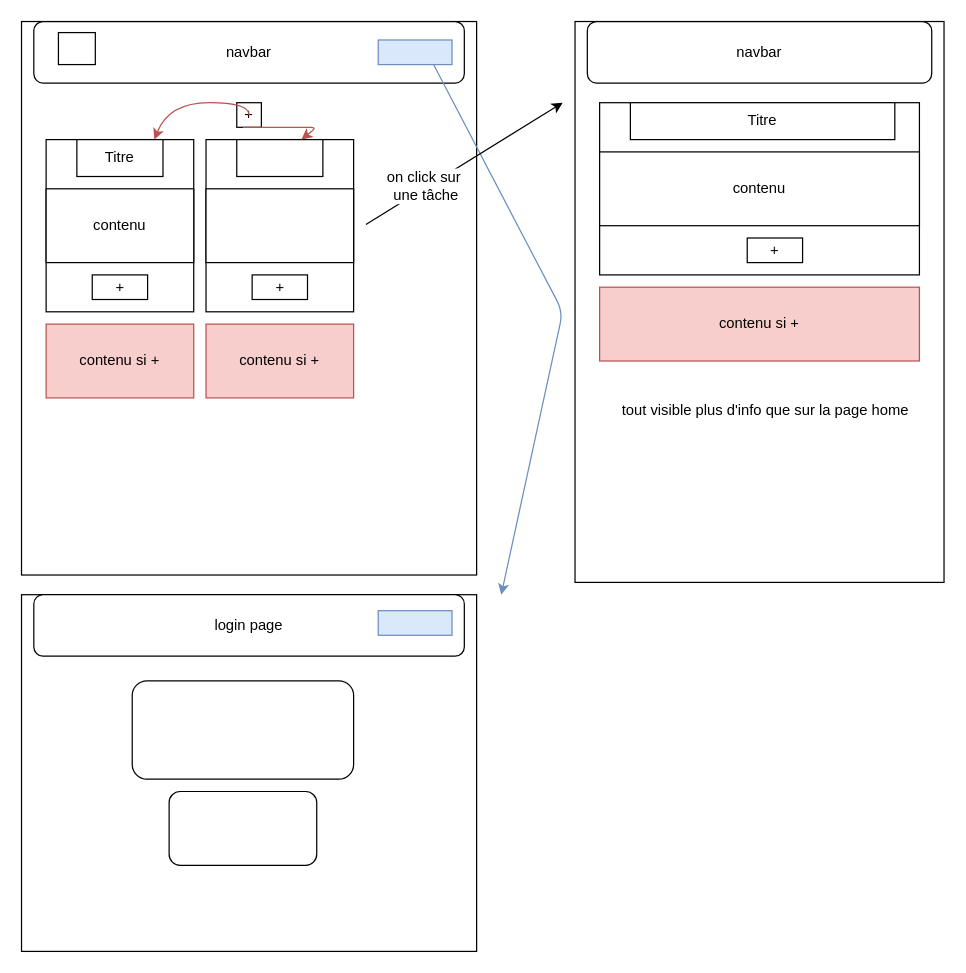
Some shapes in this 966 by 973 pixel diagram are drawn without their labels. Each missing label, with the centre of its shape:
"contenu 2" belongs at point (279, 225).
"login" belongs at point (414, 622).
"logo" belongs at point (76, 48).
"logout" belongs at point (414, 52).
"Signup" belongs at point (242, 827).
"Titre 2" belongs at point (279, 157).
"user password" belongs at point (242, 729).
